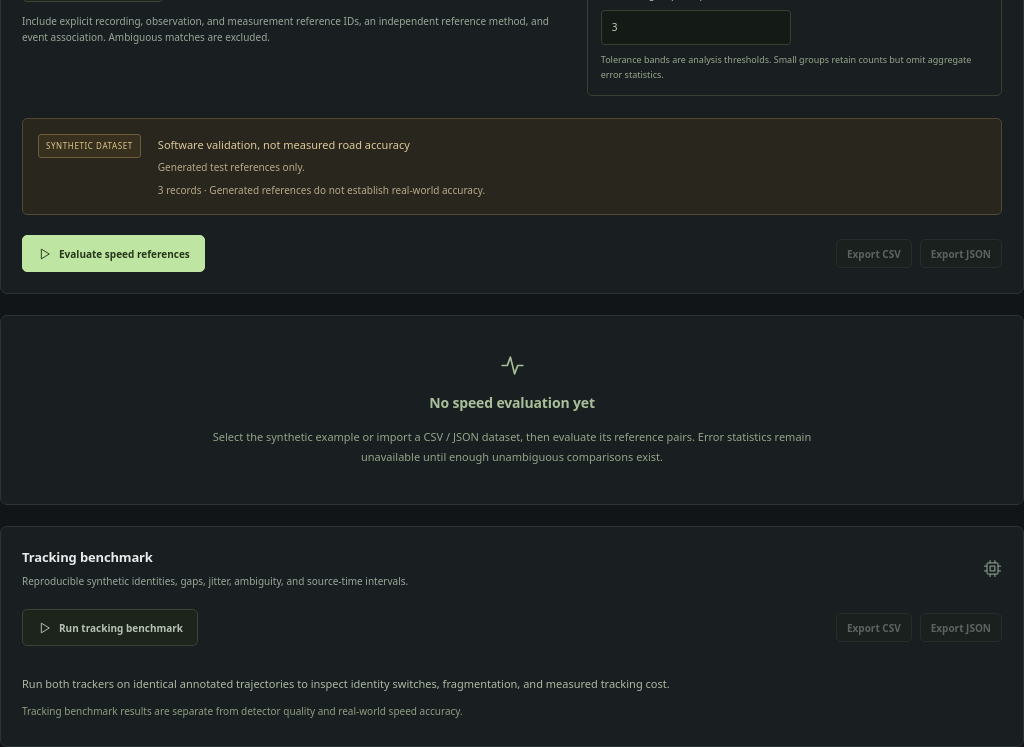
Scenario: validation and benchmark workspace › shows a failed benchmark as an error with retry available
(page scrolled)
Expected: the button "Evaluate speed references" is enabled, [22, 235, 205, 272]
What coordinates should you click on to do the following:
click the button "Run tracking benchmark"
I would click on:
 (110, 628)
Its box is [22, 609, 198, 646].
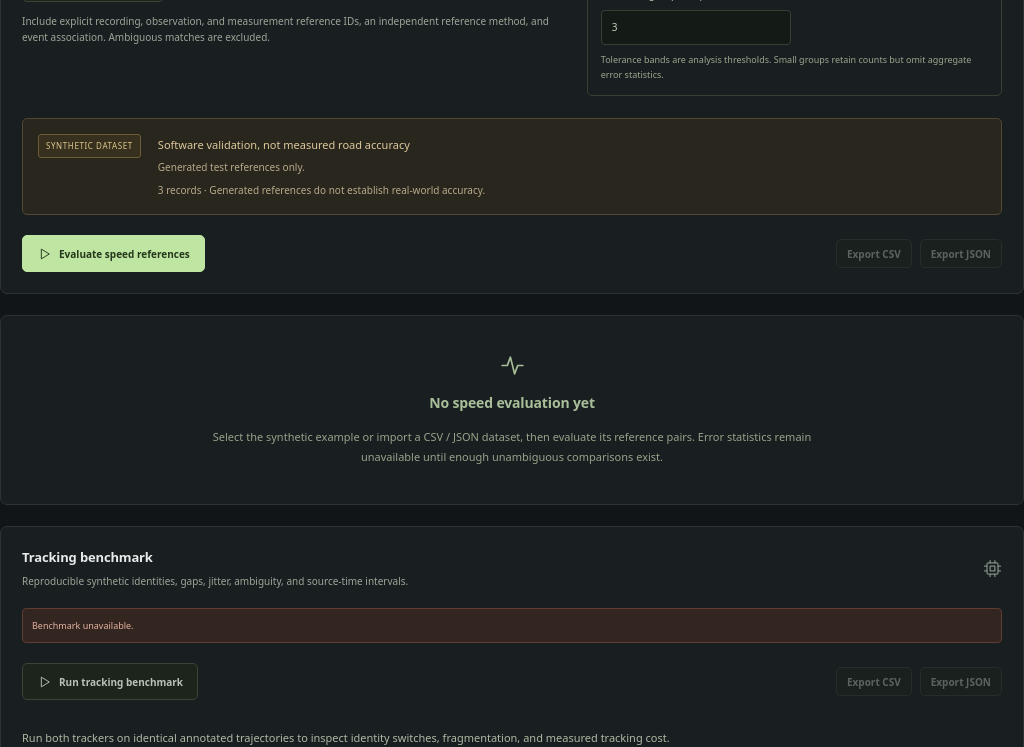
Expected: the button "Run tracking benchmark" is enabled, [22, 664, 198, 700]
Now the message reads "Benchmark unavailable.", box [32, 619, 134, 632]
